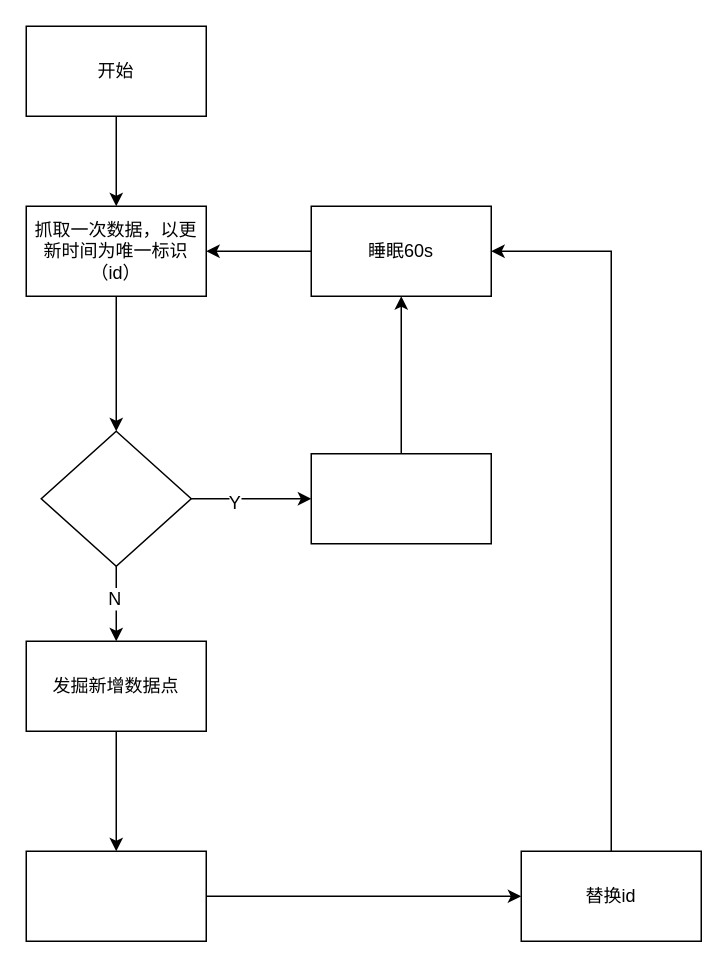
Image size: 728x968. Some labels were removed from this diagram. The shapes that lost their labels are listed below. From the top down, each one's centre as x and y in pixels, then its label:
At pixel 115 498: "判断id和上一次id是否一致？或上次id不为空".
At pixel 400 498: "一致则表明数据未更新".
At pixel 115 895: "新增数据存入数据库".
